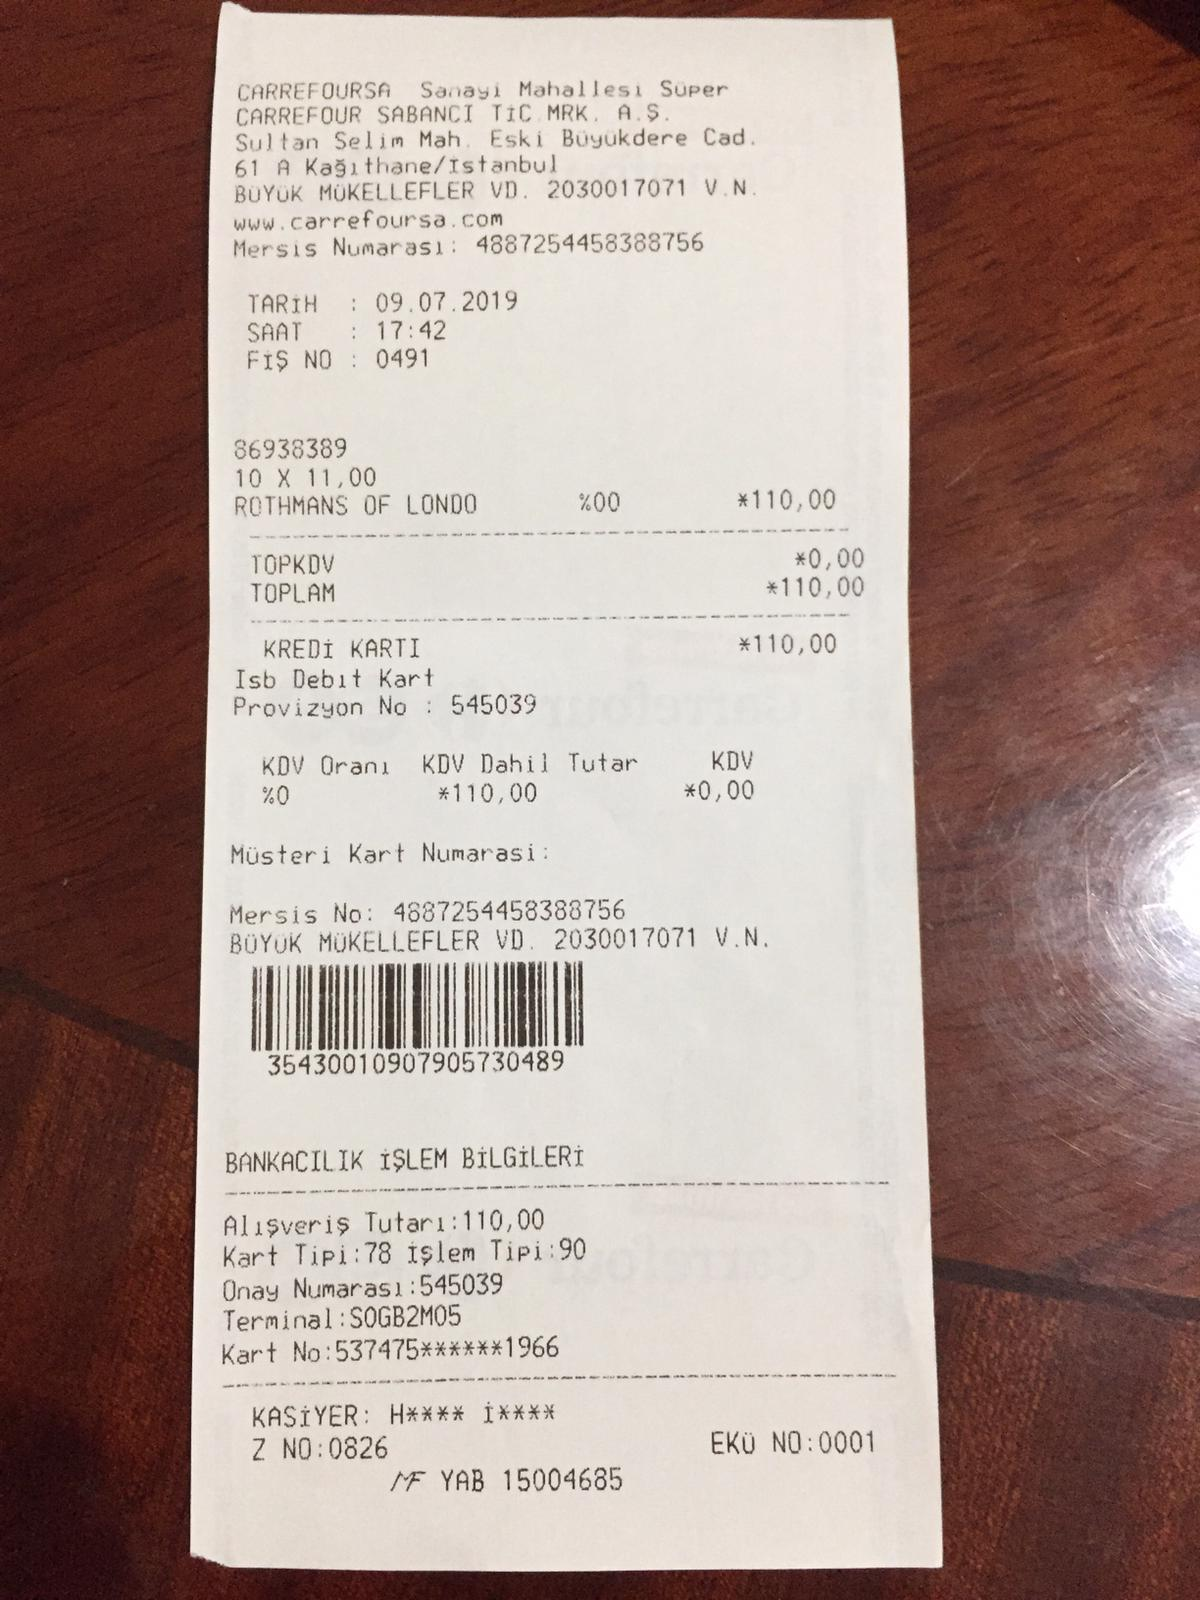total: (243, 574, 880, 611)
